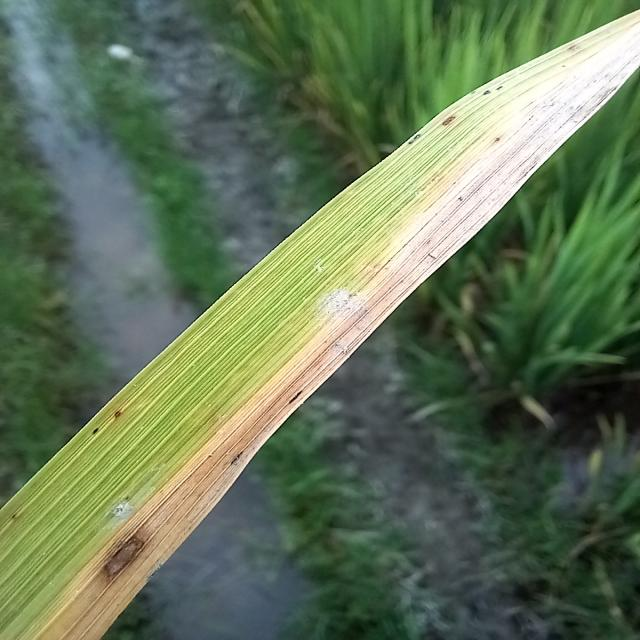Leaf_Blast: (29, 116, 580, 640)
